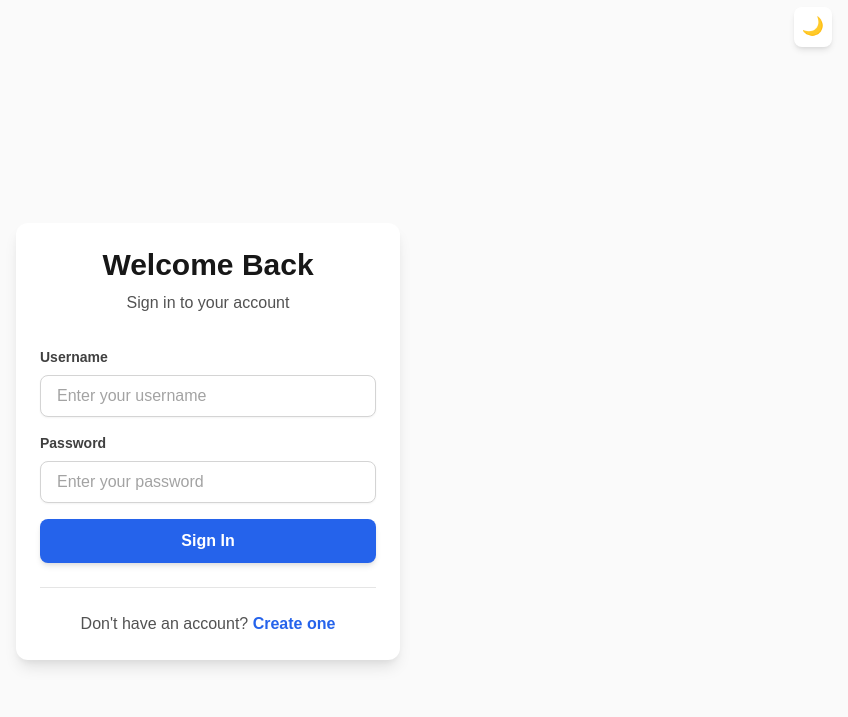
Test: Login Page › Failed Login › should display error message when login fails with error object
The width and height of the screenshot is (848, 717).
Type "wronguser" into the field labelled "Username" at (208, 396), box [40,374,376,416]
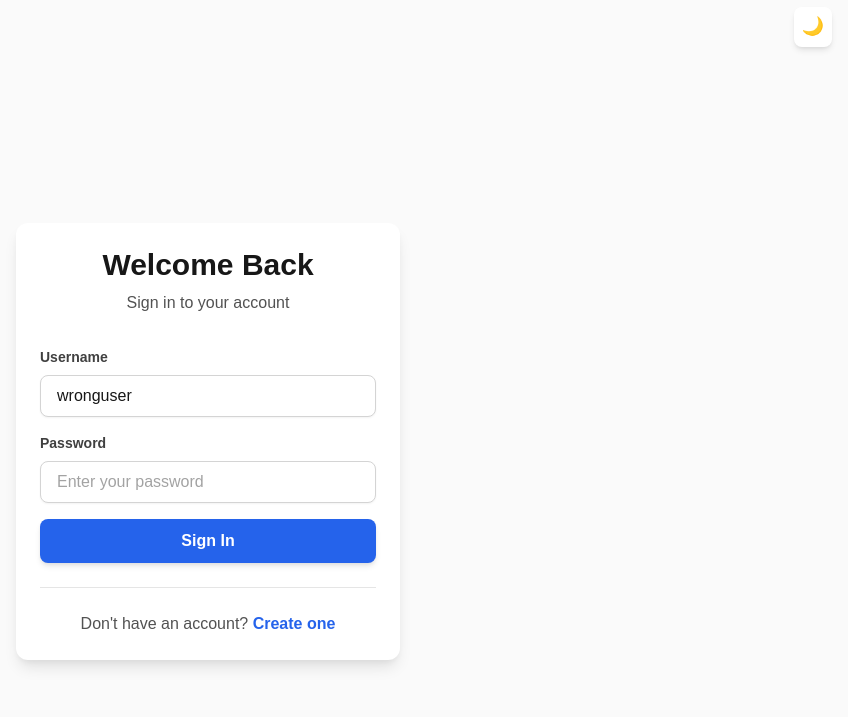
Type "wrongpass" into the password field labelled "Password" at (208, 482), box [40,460,376,502]
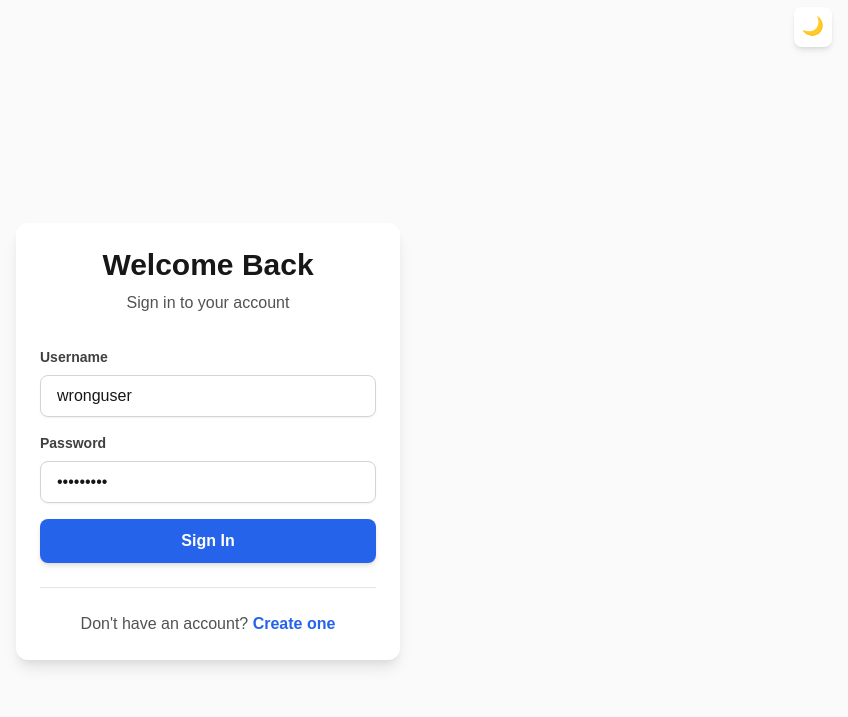
Click the button "Sign In" at (208, 540), box [40,518,376,562]
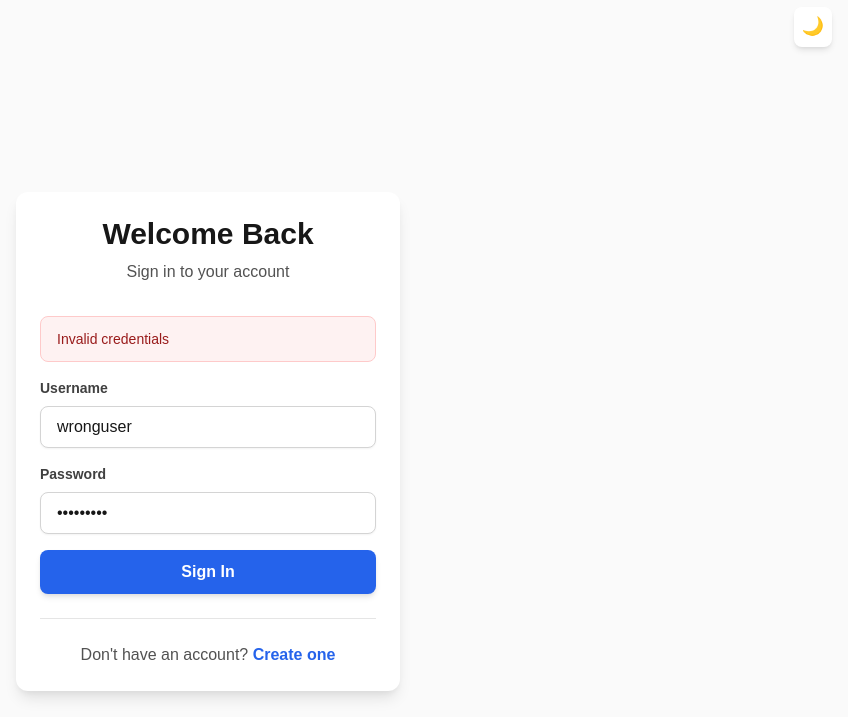
Now the text "Invalid credentials" is shown, box [40,316,376,362]
